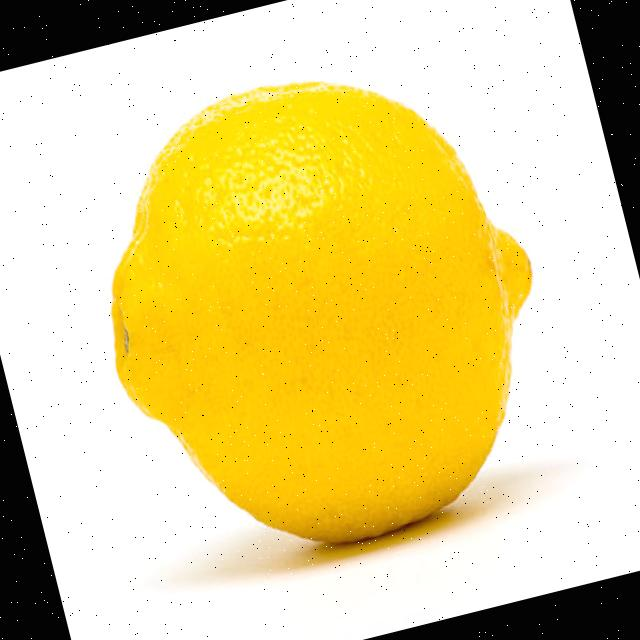Ripe: (51, 25, 590, 591)
